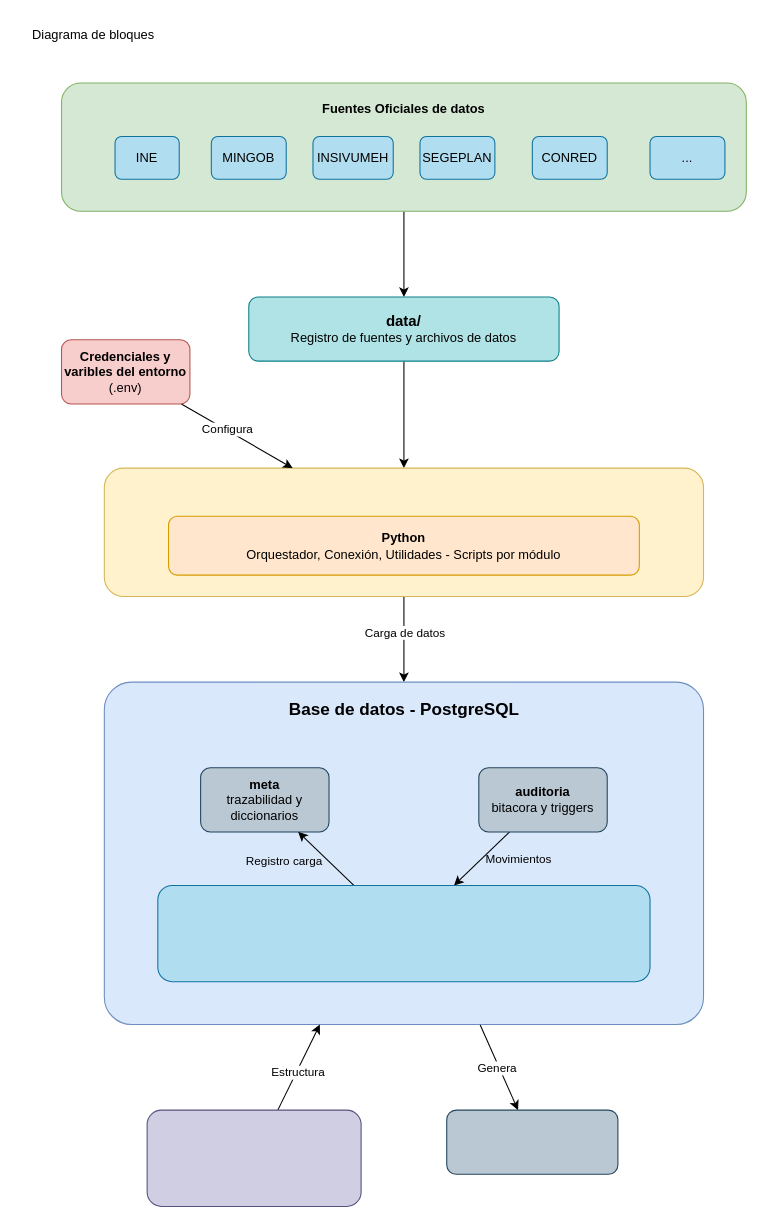
The diagram is 765 pixels wide and 1225 high, and some of its shapes have lost their labels. Each missing label, with the box of its shape:
Diccionario de la base de datos: (446, 1109, 618, 1174)
Esquemas de dominio geografia, demografia, justicia, turismo, clima, ...: (157, 884, 650, 982)
ETL: (103, 467, 704, 597)
Flyway Migraciones Estructura de la DB: (146, 1109, 361, 1206)
